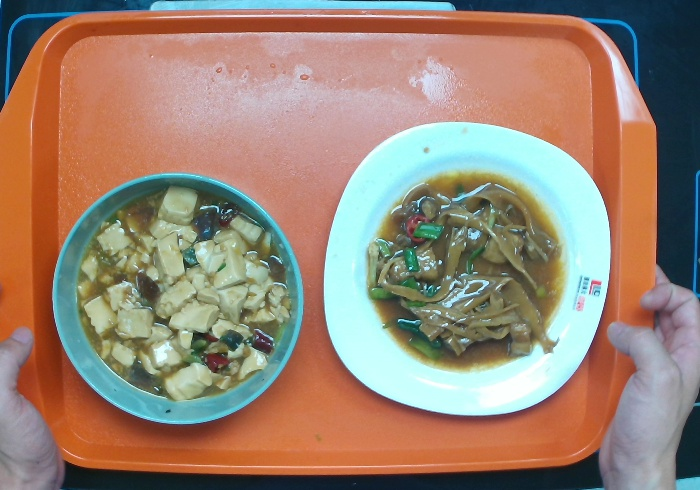ZNLD-Qing_Hua_Yuan_Wan: (48, 166, 307, 430)
ZNLD-Yuan_Jiao_Pan: (320, 119, 615, 418)
